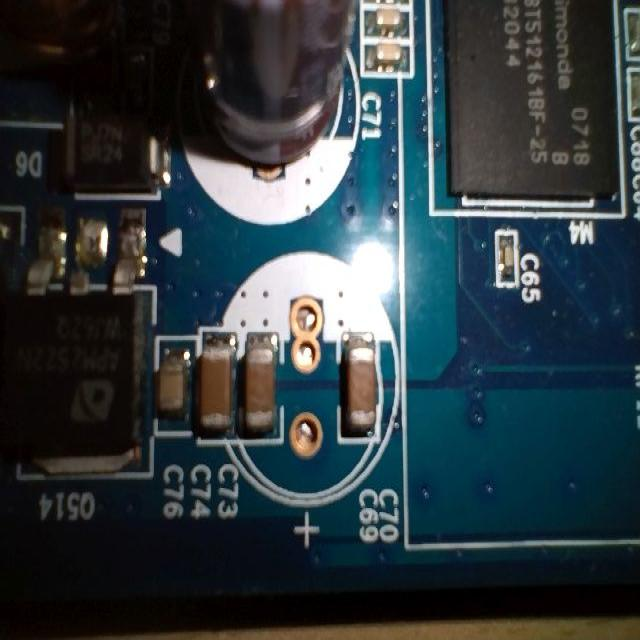capacitor: (194, 332, 246, 447), (338, 328, 386, 445), (150, 335, 199, 434), (242, 335, 285, 437), (494, 233, 525, 296), (364, 34, 419, 66), (366, 5, 405, 38)
